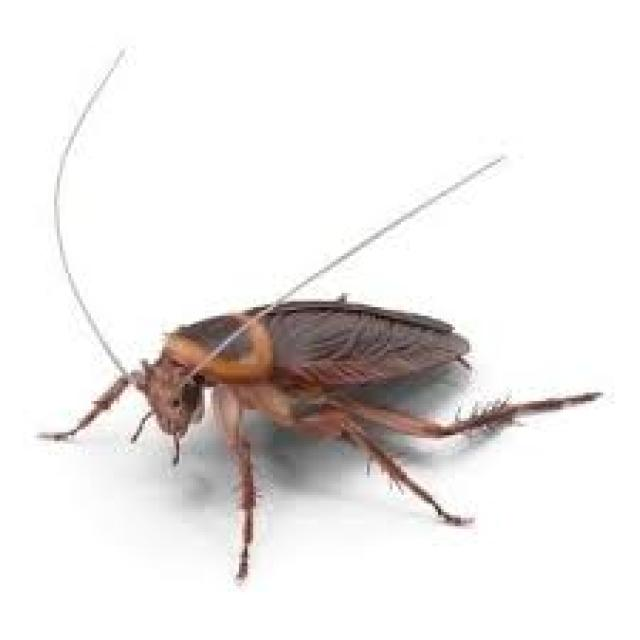Cockroach: (34, 245, 603, 580)
